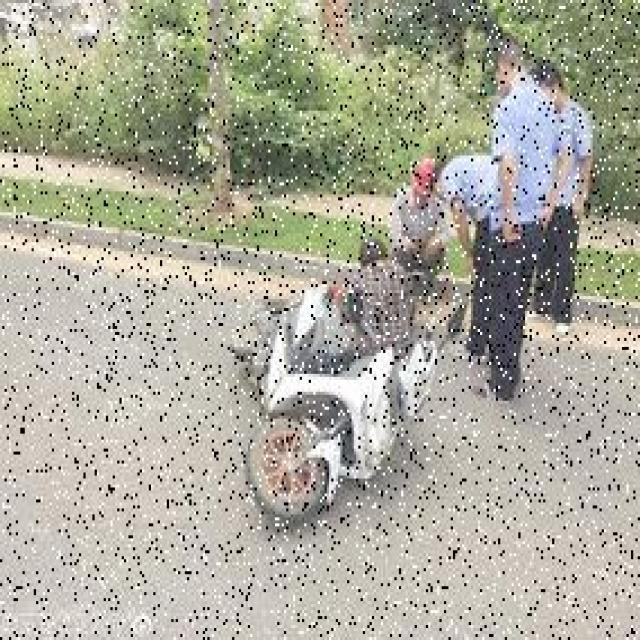fall: (333, 239, 417, 359)
